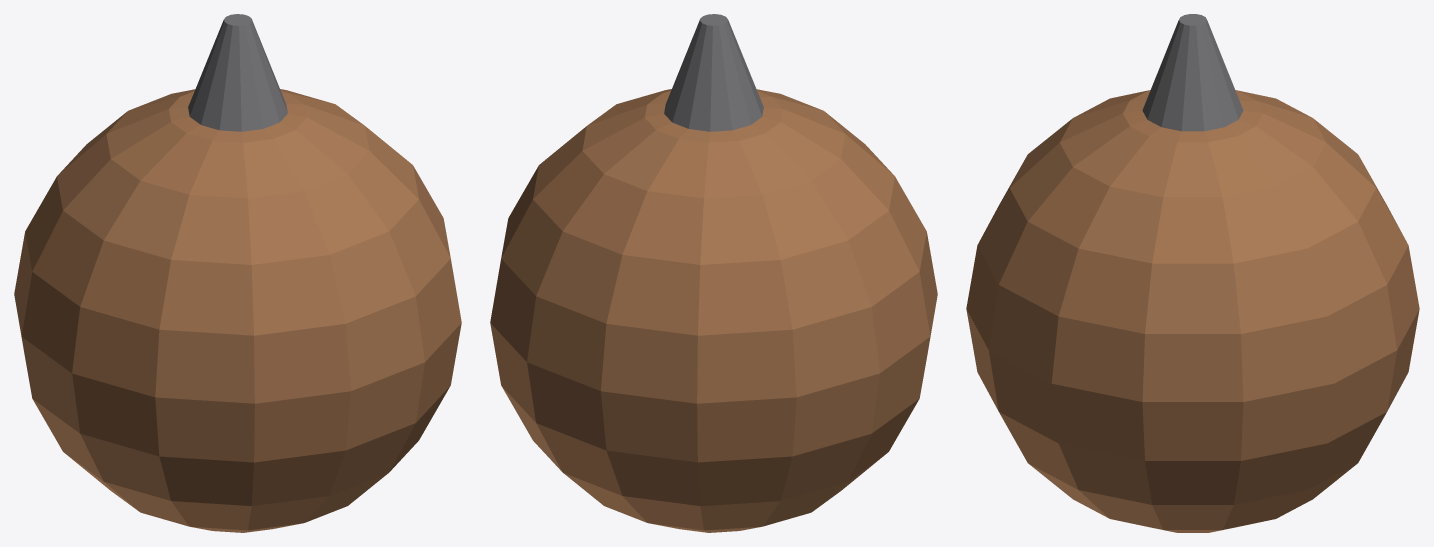
File: LL_Buoy.fbx
3 renders of one model, left to right at view 1: azimuth 30°, elevation 25°; view 2: azimuth 150°, elevation 25°; view 3: azimuth 270°, elevation 25°, orthographic.
Parts seen in each view (by area): view 1: LL_Buoy, LL_Buoy_Top; view 2: LL_Buoy, LL_Buoy_Top; view 3: LL_Buoy, LL_Buoy_Top.
Boxes of the visible parts, bbox=[...] form: LL_Buoy: bbox=[14, 89, 461, 532]; LL_Buoy_Top: bbox=[188, 14, 287, 131]; LL_Buoy: bbox=[490, 89, 937, 532]; LL_Buoy_Top: bbox=[664, 14, 763, 131]; LL_Buoy: bbox=[966, 90, 1419, 532]; LL_Buoy_Top: bbox=[1142, 14, 1243, 131].
Bounding box in the file's own units: 0.624 × 0.77 × 0.64.
